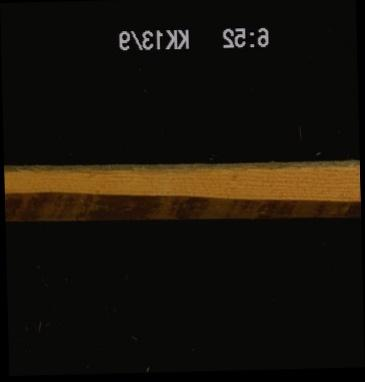wave: (3, 198, 358, 220), (3, 161, 352, 178)
